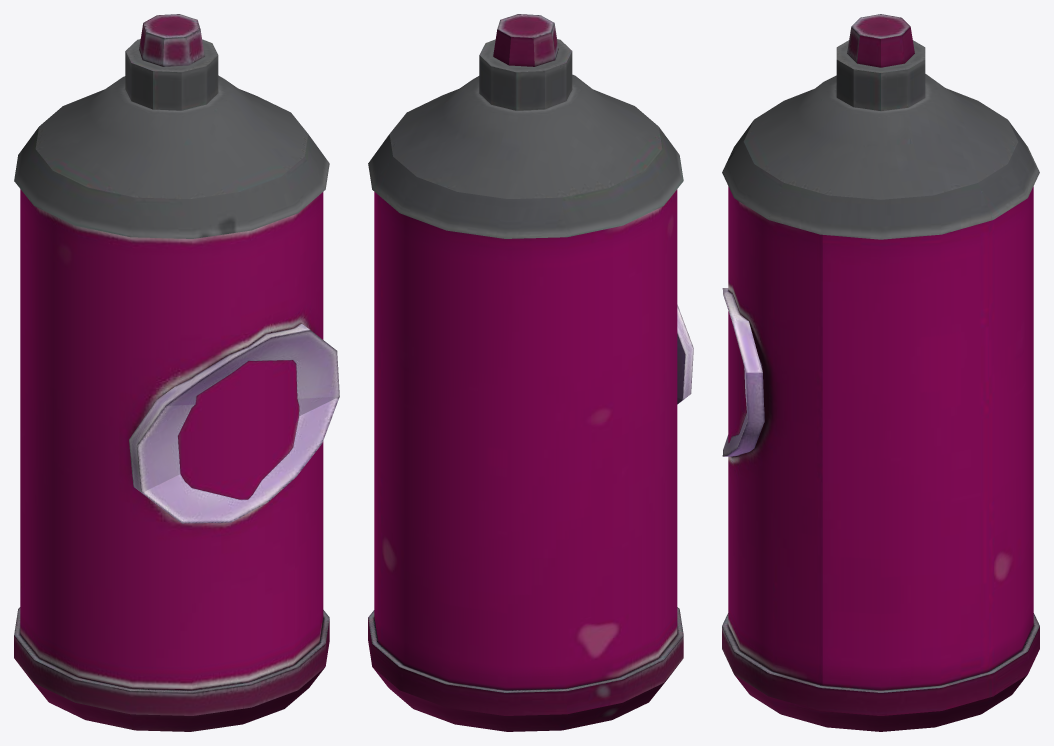
File: 07_011_graffiti_can.glb
3 views of the same model, side by side, from view 1: azimuth 30°, elevation 25°; view 2: azimuth 150°, elevation 25°; view 3: azimuth 270°, elevation 25° (orthographic).
Visible parts, largest first — view 1: GraffitiCan; view 2: GraffitiCan; view 3: GraffitiCan.
Boxes of the visible parts, x1,y1,x2,y2 form: GraffitiCan: (14, 14, 339, 731); GraffitiCan: (368, 14, 693, 731); GraffitiCan: (722, 14, 1039, 731).
Bounding box in the file's own units: 0.0813 × 0.1822 × 0.0813.
1 material, 1 textured.
